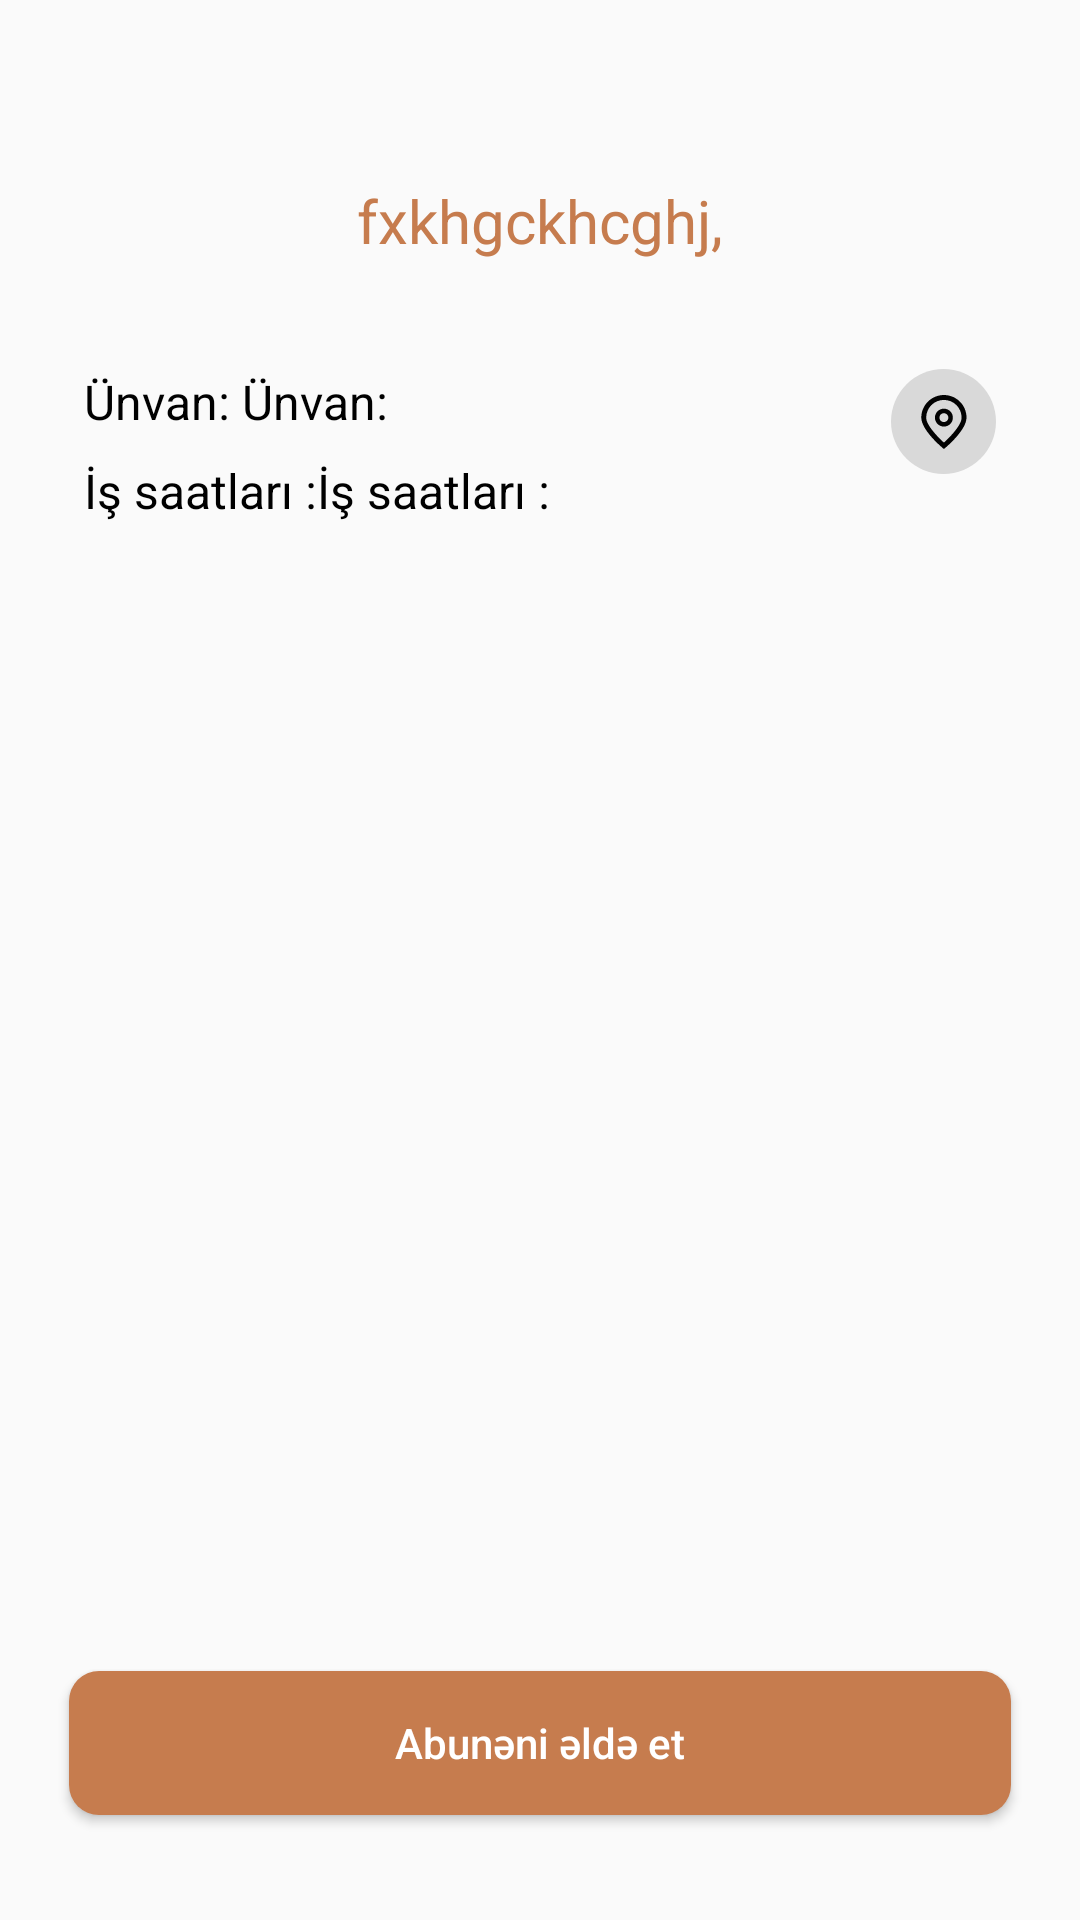

Screen size 1080*1920. Icon name, then its center in pixels as point (x, y):
location: point (943, 421)
